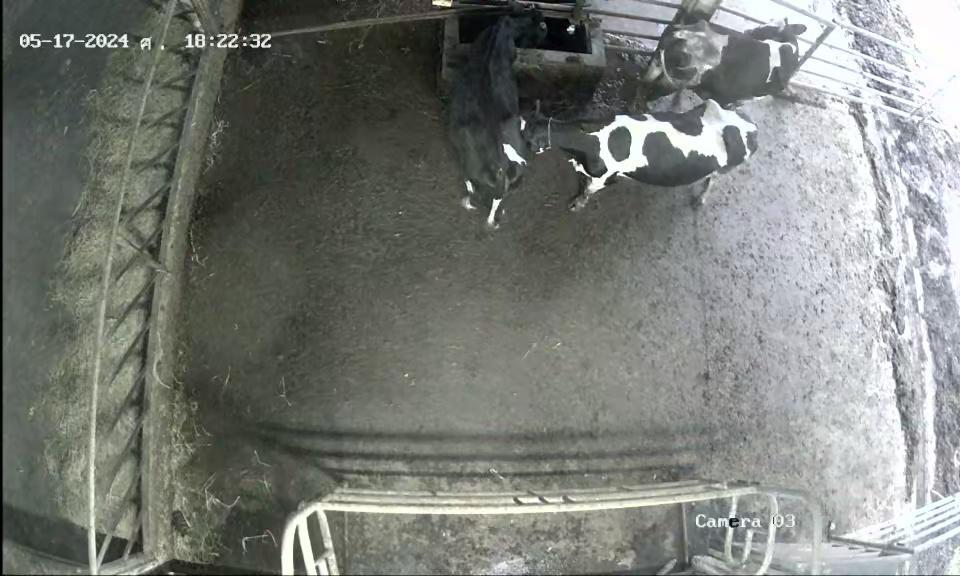drink: (479, 0, 562, 89)
stand: (518, 97, 763, 227), (650, 11, 806, 104)
